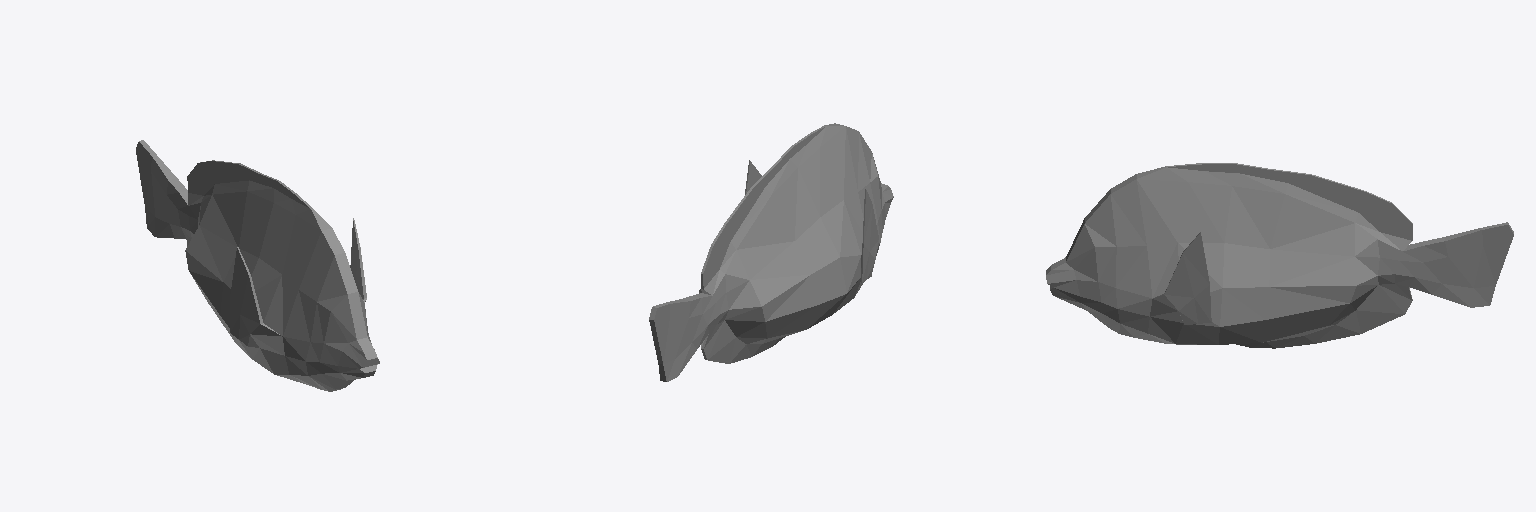
File: TropicalFish10.obj
The picture shows the model from 3 angles: view 1: azimuth 30°, elevation 25°; view 2: azimuth 150°, elevation 25°; view 3: azimuth 270°, elevation 25°; orthographic projection.
Parts seen in each view (by area): view 1: TropicalFish10; view 2: TropicalFish10; view 3: TropicalFish10.
Part boxes in pixels (x1,y1,x2,y2): TropicalFish10: (136,140,379,391); TropicalFish10: (649,123,893,381); TropicalFish10: (1046,163,1513,348).
Size of the model in its own units: 2.11 by 3.07 by 7.07.